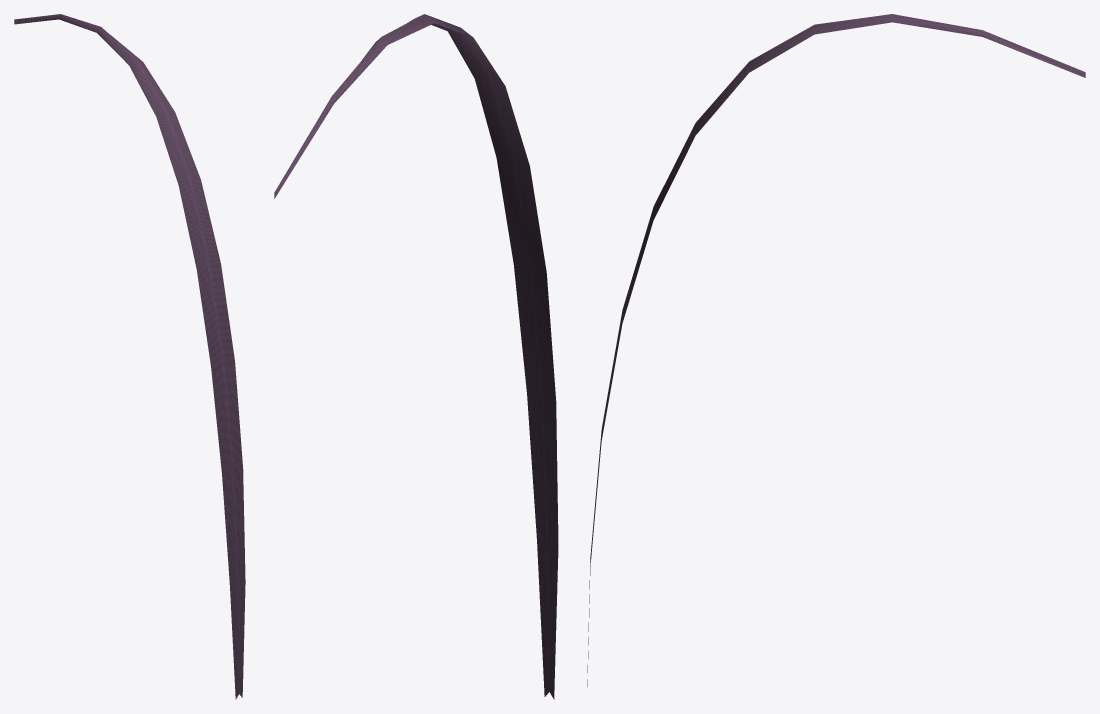
Rendered from single_blade_04.glb.
3 views of the same model, side by side, from view 1: azimuth 30°, elevation 25°; view 2: azimuth 150°, elevation 25°; view 3: azimuth 270°, elevation 25° (orthographic). The views are drawn at different scales.
Parts seen in each view (by area): view 1: export; view 2: export; view 3: export.
Part boxes in pixels (x1,y1,x2,y2): export: (14, 14, 245, 699); export: (274, 14, 558, 699); export: (587, 14, 1085, 686).
Size of the model in its own units: 0.046 by 1.01 by 0.6706.
1 material, 1 textured.
